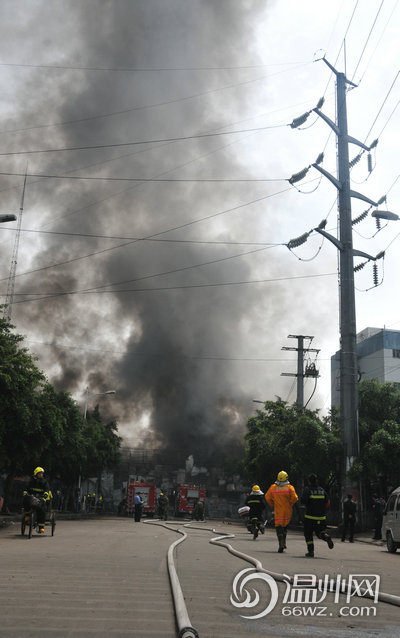smoke: (49, 23, 277, 445)
